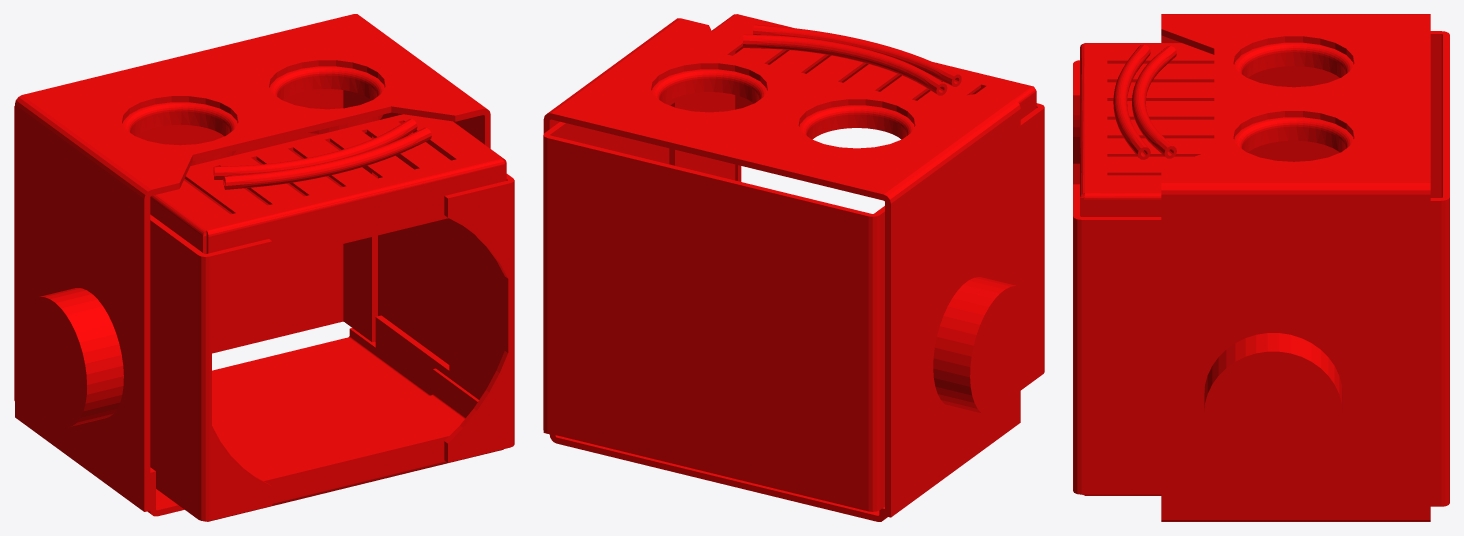
The model's file is head.dae.
3 views of the same model, side by side, from view 1: azimuth 30°, elevation 25°; view 2: azimuth 150°, elevation 25°; view 3: azimuth 270°, elevation 25° (orthographic). The views are drawn at different scales.
Parts seen in each view (by area): view 1: Mesh; view 2: Mesh; view 3: Mesh.
Part boxes in pixels (<box>): Mesh: <box>14,14,514,521</box>; Mesh: <box>543,14,1044,521</box>; Mesh: <box>1073,14,1449,521</box>.
Size of the model in its own units: 0.2283 by 0.1708 by 0.172.
